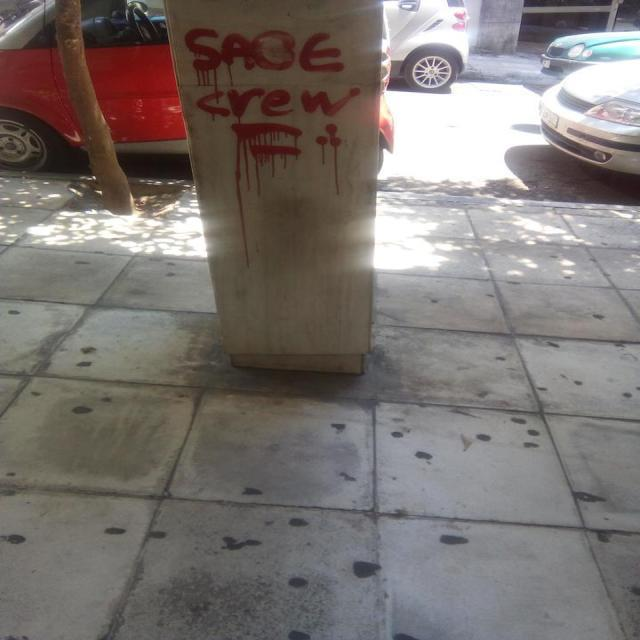nonspitting: (182, 26, 364, 160)
